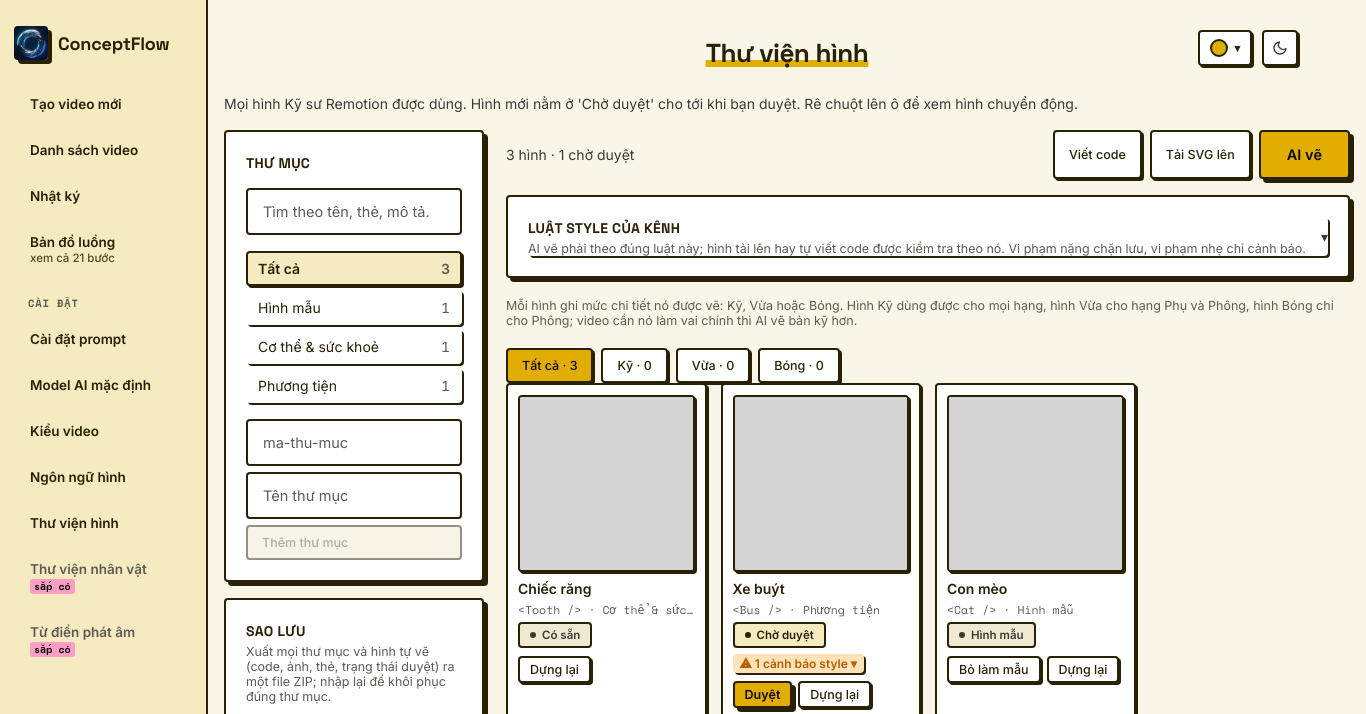
IllustrationLibraryPage › approves a draft from its tile
What coordinates should you click on to do the following:
click the button with test id "approve-Bus"
I would click on:
 (762, 694)
Its box is [732,681,792,708].
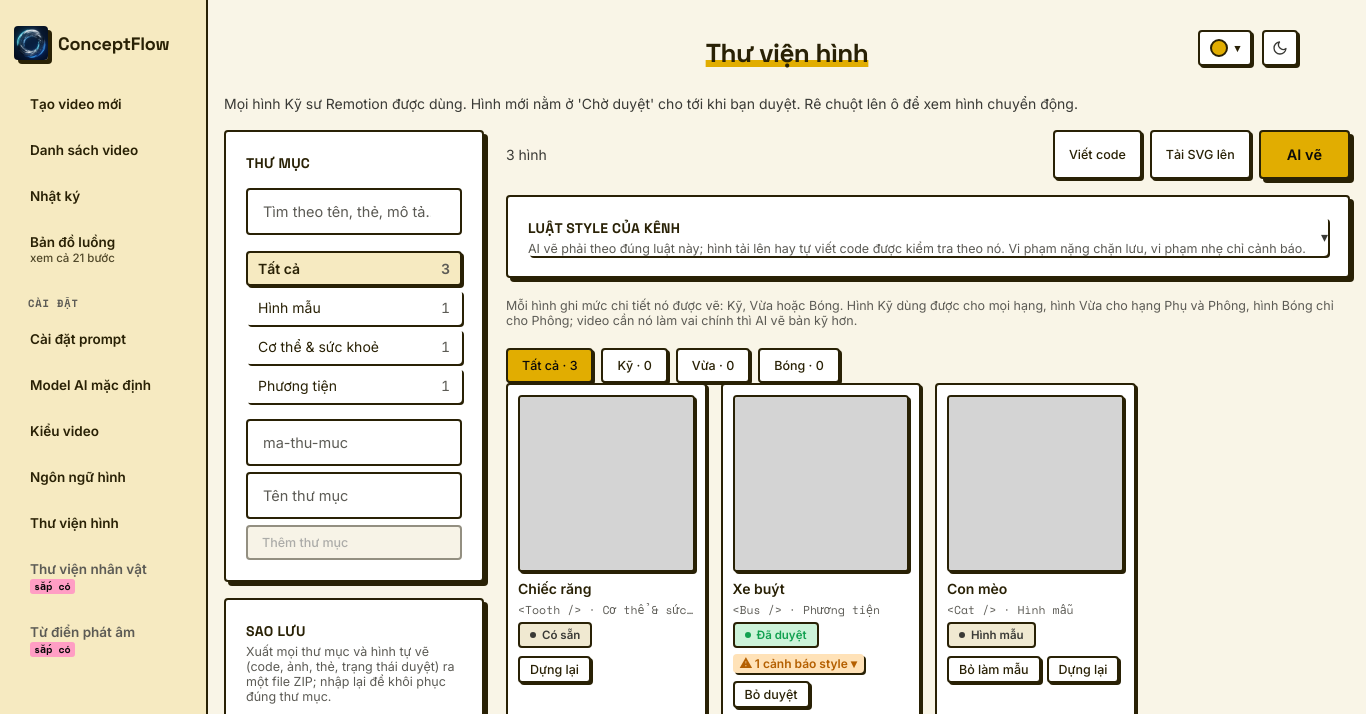
Now the element with test id "illustration-status-Bus" reads "Đã duyệt", box [756,628,806,642]
